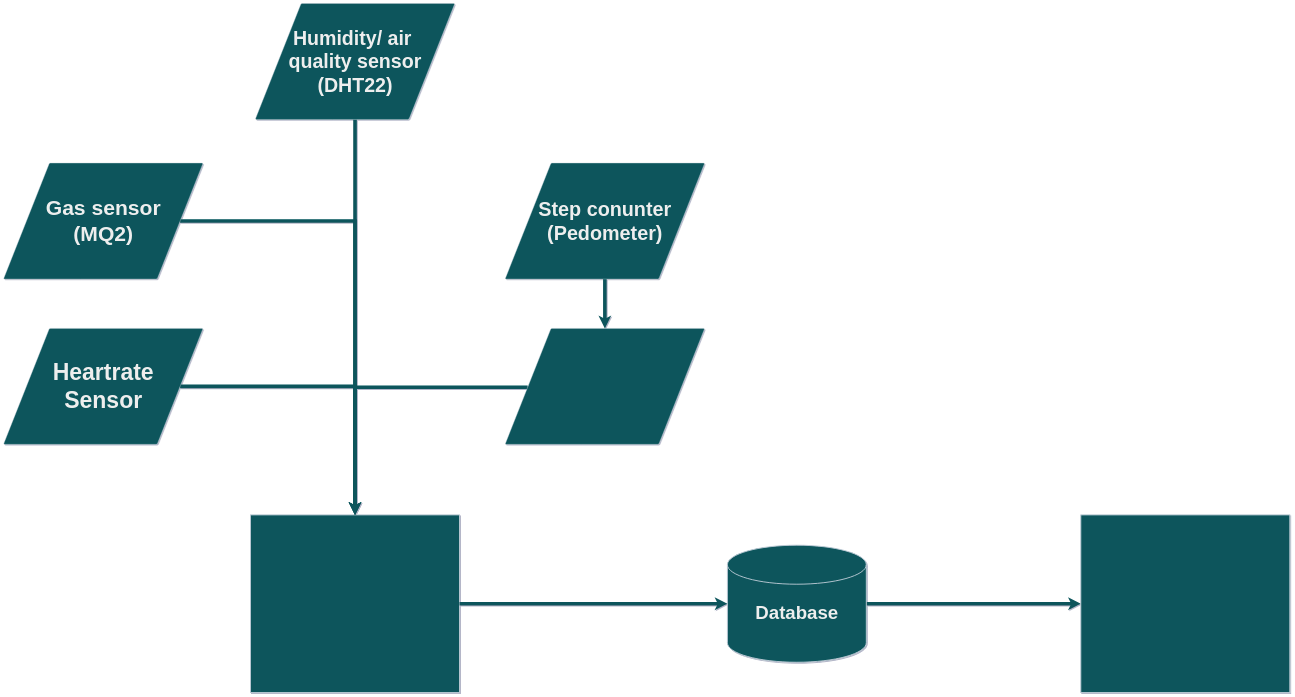
Image size: 1295x697. Some labels were removed from this diagram. Here are the shapes that lost their labels. From the top down, the centre of each, then its label:
(605,386): Accelerometer (Fall sensor)
(355,603): ESP32 (Mini Computer)
(1185,603): Mobile App
